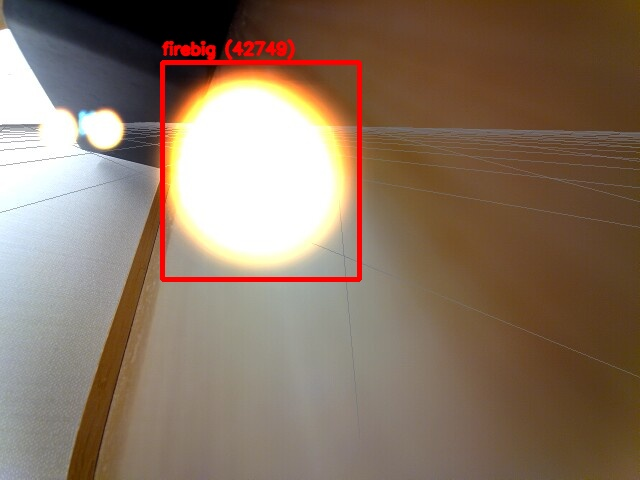firebig: (162, 62, 359, 279)
